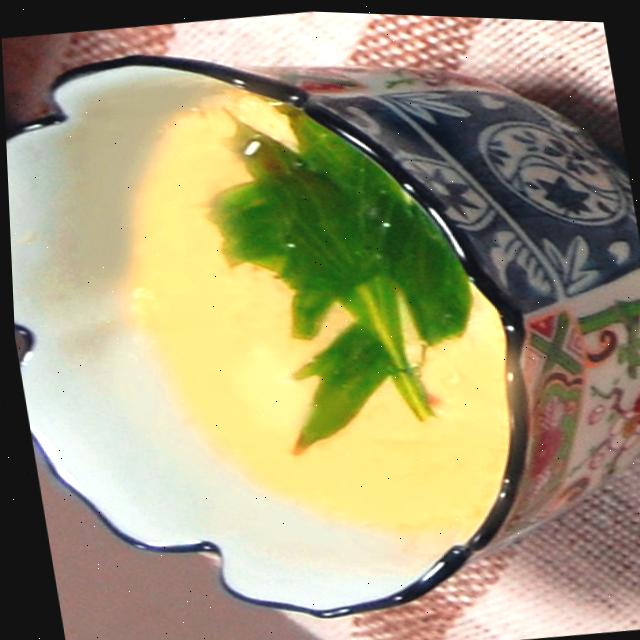鸡蛋料理: (15, 47, 640, 594)
